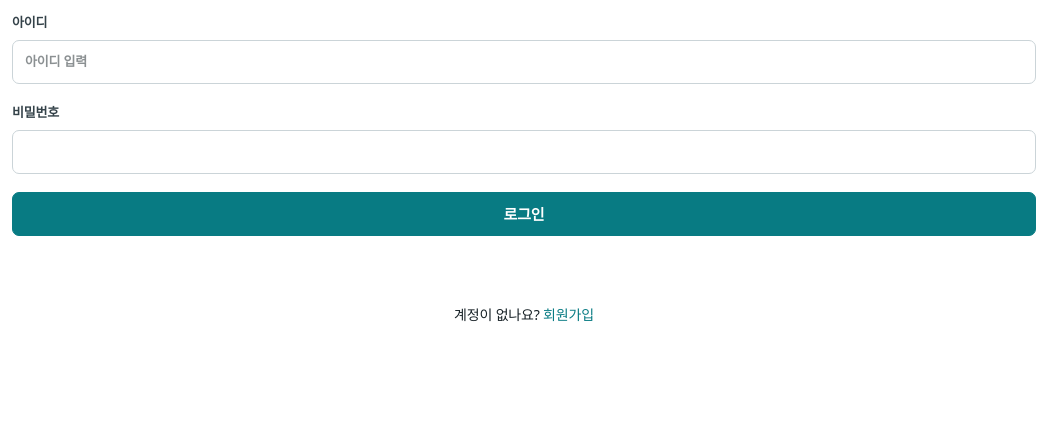
Test case: LoginForm › submits username and password
The image size is (1048, 441).
Step 1. Type "designer" into the field labelled "아이디" → {"x": 524, "y": 62}, box [12,40,1036,84]
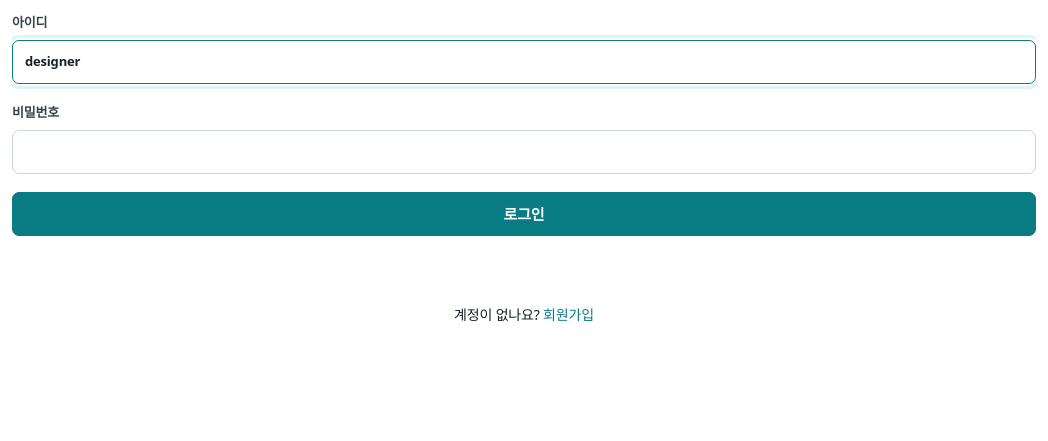
Step 2. Type "wrong" into the password field labelled "비밀번호" → {"x": 524, "y": 152}, box [12,130,1036,174]
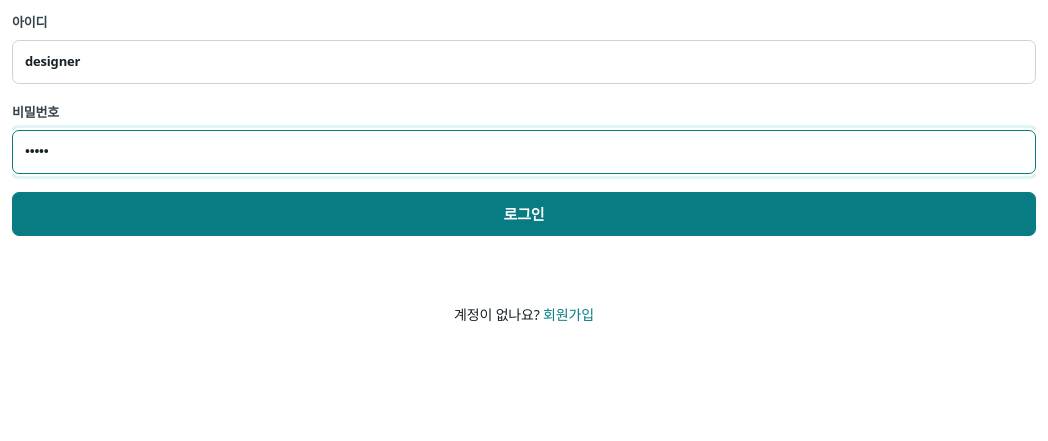
Step 3. Click the button "로그인" → {"x": 524, "y": 214}, box [12,192,1036,236]
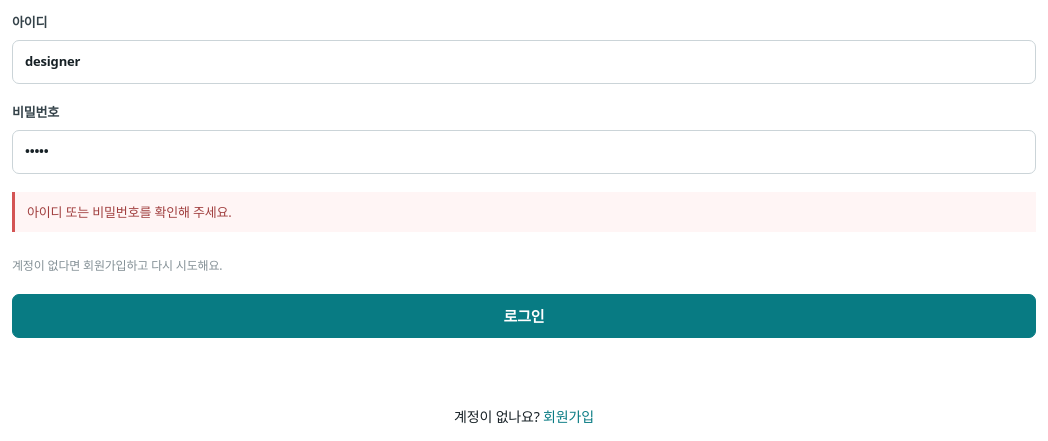
Now the text "아이디 또는 비밀번호를 확인해 주세요." is shown, box [12,192,1036,232]
